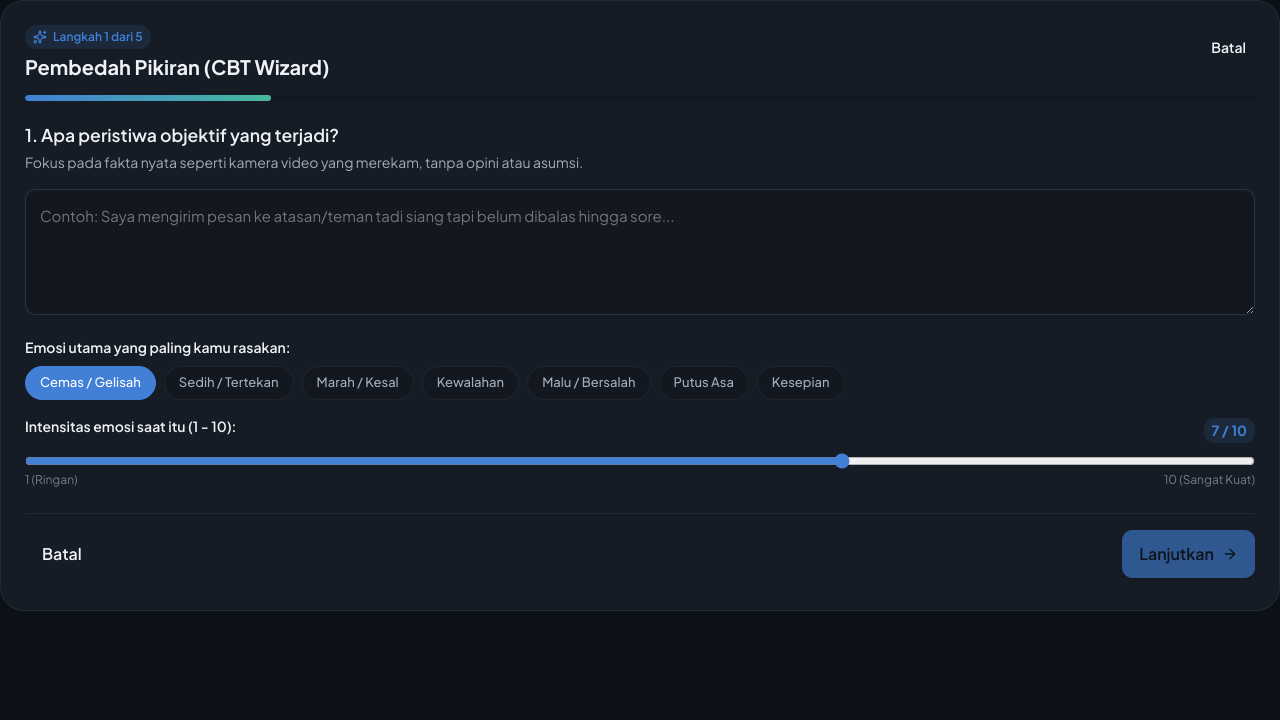
CbtWizard Component › supports back navigation between steps
The width and height of the screenshot is (1280, 720).
Replace the text in the text box named "Apa peristiwa objektif yang terjadi?" with "Situasi pengujian": [640, 252] box [25,189,1255,315]
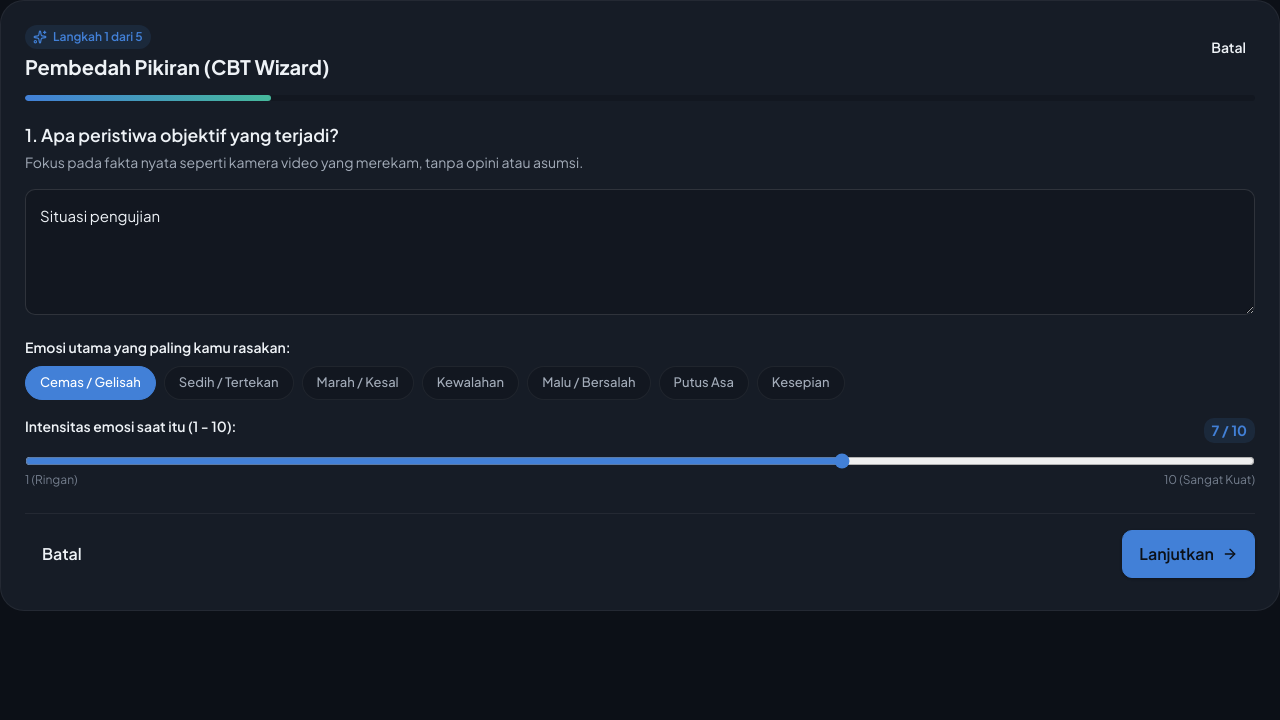
Click the button "Lanjutkan": [1189, 554] box [1122,530,1255,578]
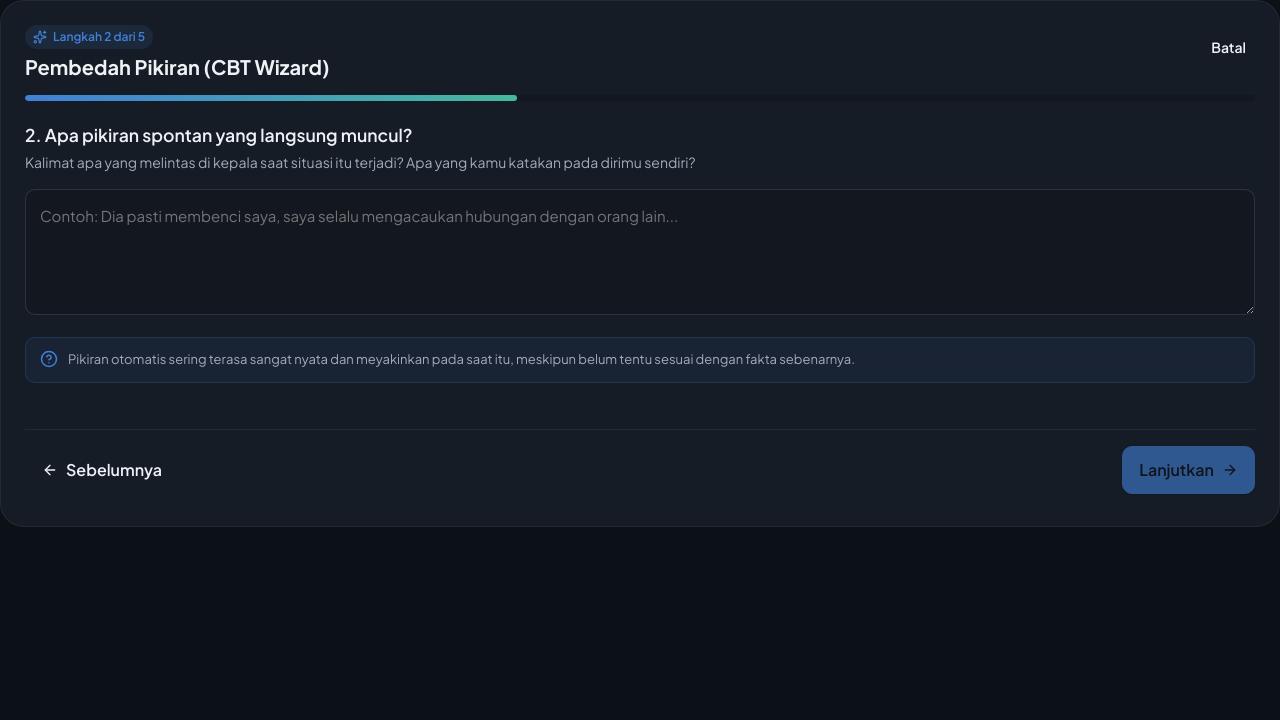
Expected: the heading "2. Apa pikiran spontan yang langsung muncul?" is shown, [25,124,413,146]
# Click Back
Click the button "Sebelumnya": [102, 470] box [25,446,179,494]
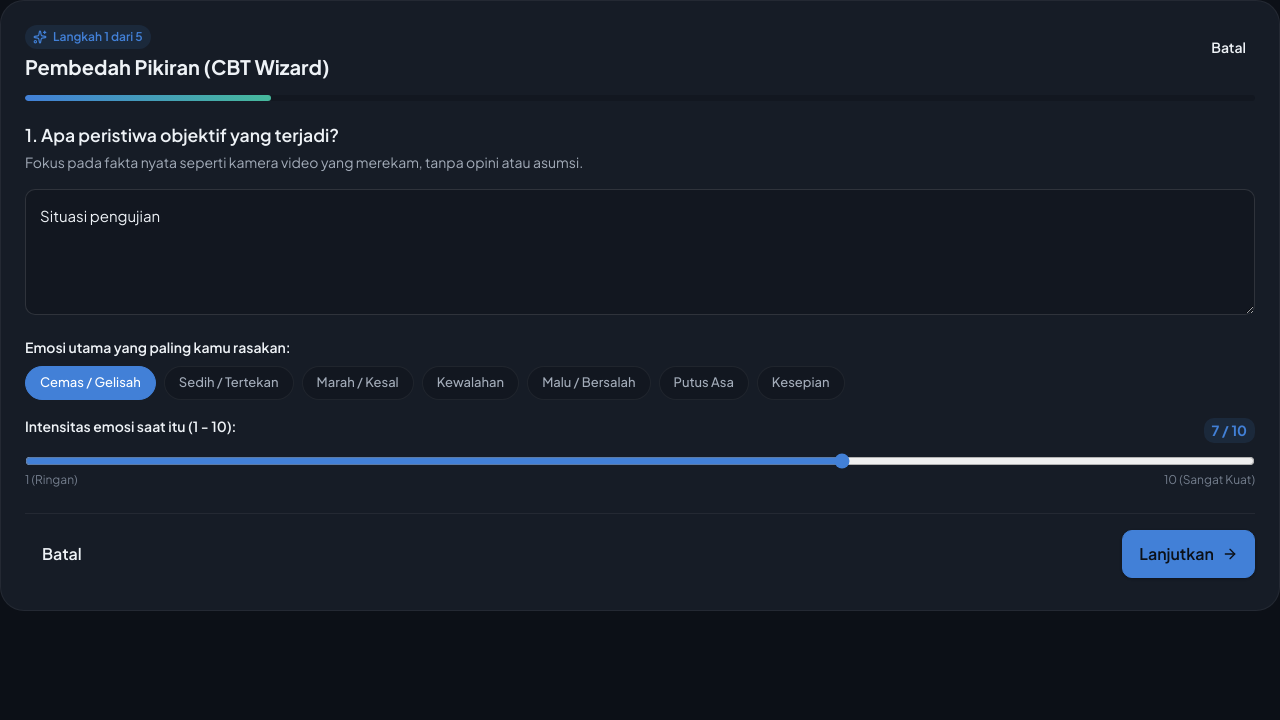
Expected: the heading "1. Apa peristiwa objektif yang terjadi?" is shown, [25,124,339,146]
